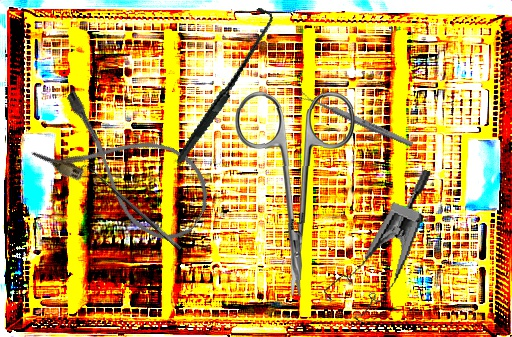Cannula: (29, 84, 224, 253)
Hook Surgical: (140, 5, 306, 163), (76, 159, 183, 259)
Iris Scissors: (231, 89, 356, 300)
Speculum: (319, 154, 433, 331)
Surgical Spoon: (298, 90, 414, 149)
